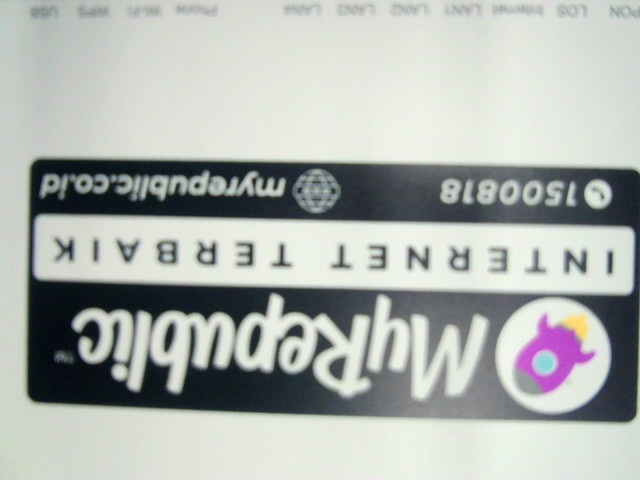BD_MyRepublic: (22, 151, 639, 423)
